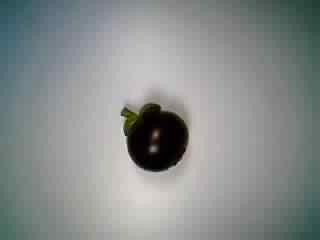mangosteen: (115, 90, 190, 176)
